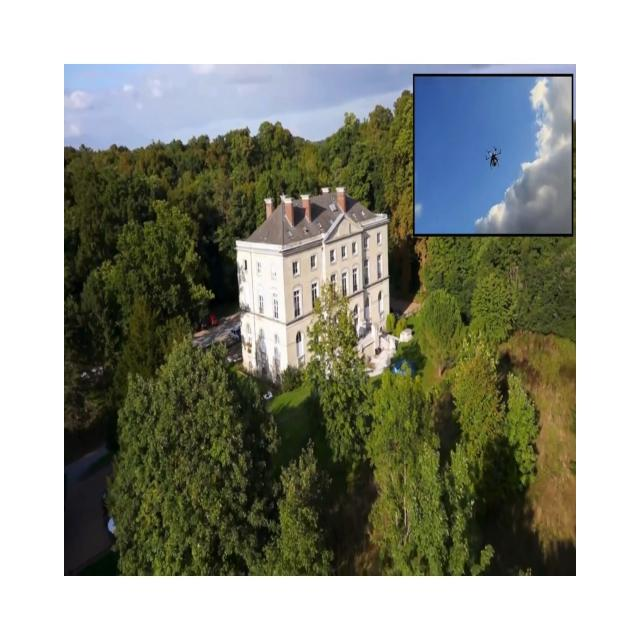drone: (485, 145, 501, 168)
